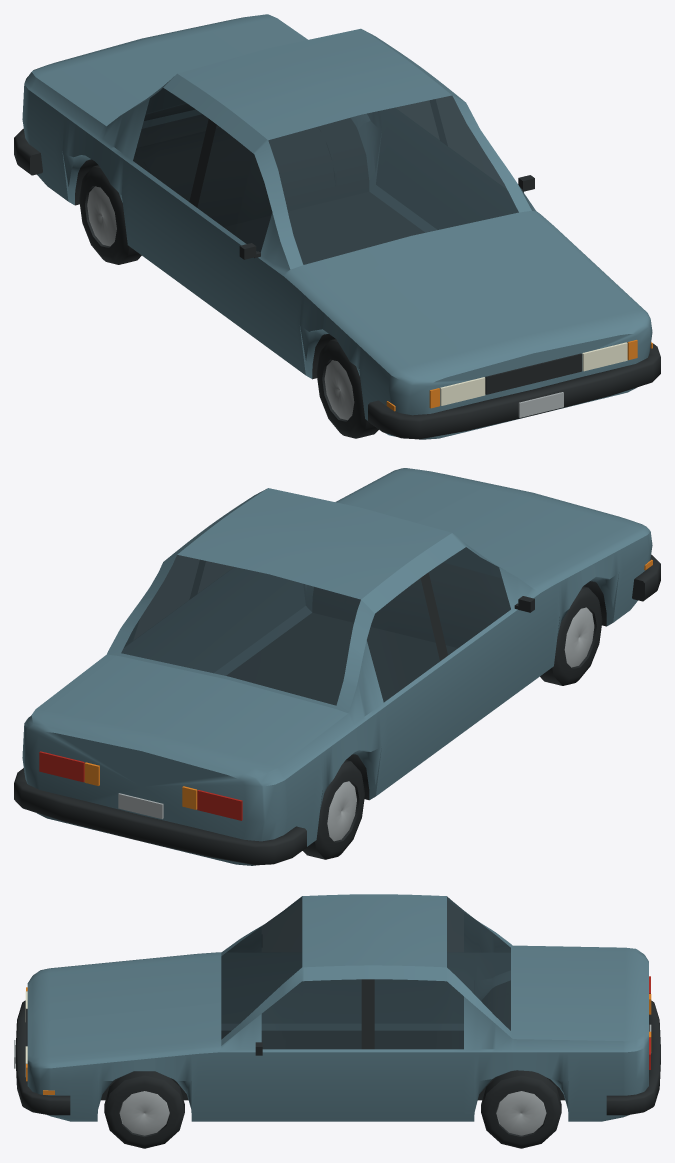
The model's file is customer-car-sedan-lite.glb.
3 renders of one model, top to bottom at view 1: azimuth 30°, elevation 25°; view 2: azimuth 150°, elevation 25°; view 3: azimuth 270°, elevation 25°, orthographic. The views are drawn at different scales.
Visible parts, largest first — view 1: Sedan_BodyPaint, Sedan_RubberTrim, Sedan_WindowGlass, Sedan_WheelMetal, Sedan_Headlamp; view 2: Sedan_BodyPaint, Sedan_WindowGlass, Sedan_RubberTrim, Sedan_WheelMetal, Sedan_TailLamp, Sedan_AmberLens; view 3: Sedan_BodyPaint, Sedan_WindowGlass, Sedan_RubberTrim, Sedan_WheelMetal.
Boxes of the visible parts, box(x1,y1,x2,y2) form: Sedan_BodyPaint: box(22, 14, 652, 439); Sedan_RubberTrim: box(14, 99, 660, 439); Sedan_WindowGlass: box(133, 88, 518, 264); Sedan_WheelMetal: box(87, 186, 563, 420); Sedan_Headlamp: box(440, 342, 627, 405); Sedan_BodyPaint: box(22, 468, 652, 865); Sedan_WindowGlass: box(121, 547, 510, 705); Sedan_RubberTrim: box(14, 554, 660, 865); Sedan_WheelMetal: box(118, 607, 594, 841); Sedan_TailLamp: box(39, 751, 242, 820); Sedan_AmberLens: box(84, 559, 652, 809); Sedan_BodyPaint: box(27, 894, 648, 1121); Sedan_WindowGlass: box(221, 896, 510, 1049); Sedan_RubberTrim: box(15, 979, 660, 1148); Sedan_WheelMetal: box(14, 1024, 651, 1135).
Bounding box in the file's own units: 6.26 × 4.57 × 15.2.
